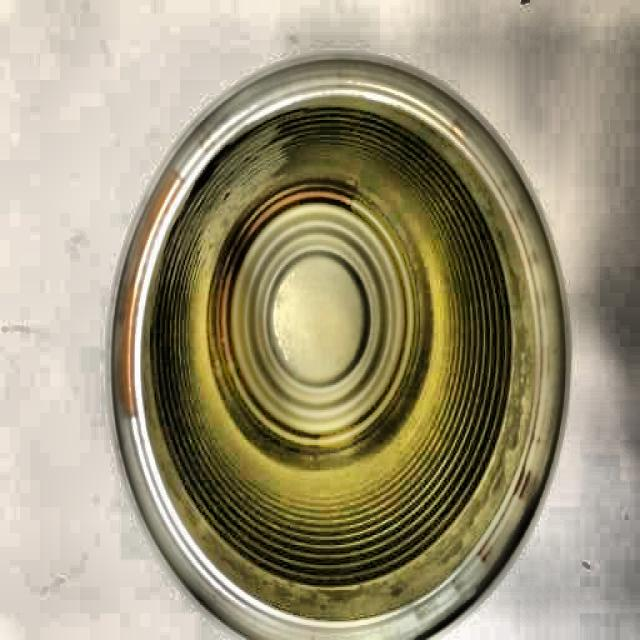metal: (112, 51, 572, 640)
